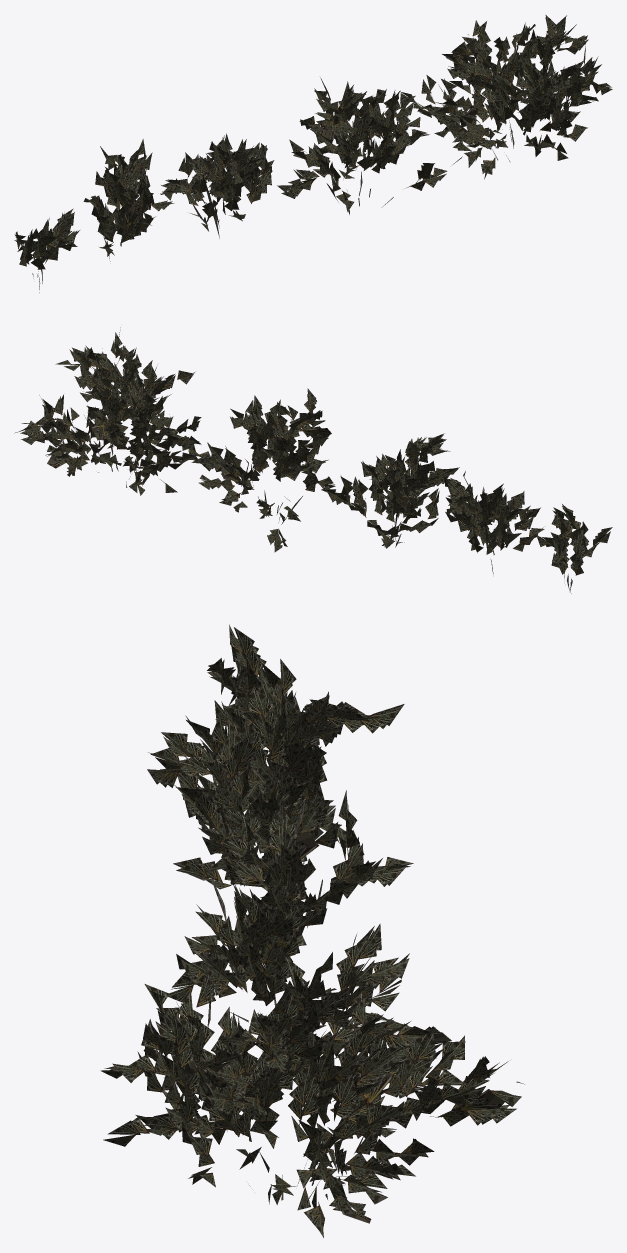
The model's file is wild_rooibos_bush.glb.
3 renders of one model, top to bottom at view 1: azimuth 30°, elevation 25°; view 2: azimuth 150°, elevation 25°; view 3: azimuth 270°, elevation 25°, orthographic. The views are drawn at different scales.
Parts seen in each view (by area): view 1: wild_rooibos_bush_a; view 2: wild_rooibos_bush_a; view 3: wild_rooibos_bush_a.
Part boxes in pixels (x1,y1,x2,y2): wild_rooibos_bush_a: (14, 15, 612, 292); wild_rooibos_bush_a: (14, 327, 612, 593); wild_rooibos_bush_a: (100, 624, 524, 1237).
Bounding box in the file's own units: 2.27 × 0.5312 × 0.7443.
Materials: 2 (2 with a texture image).
